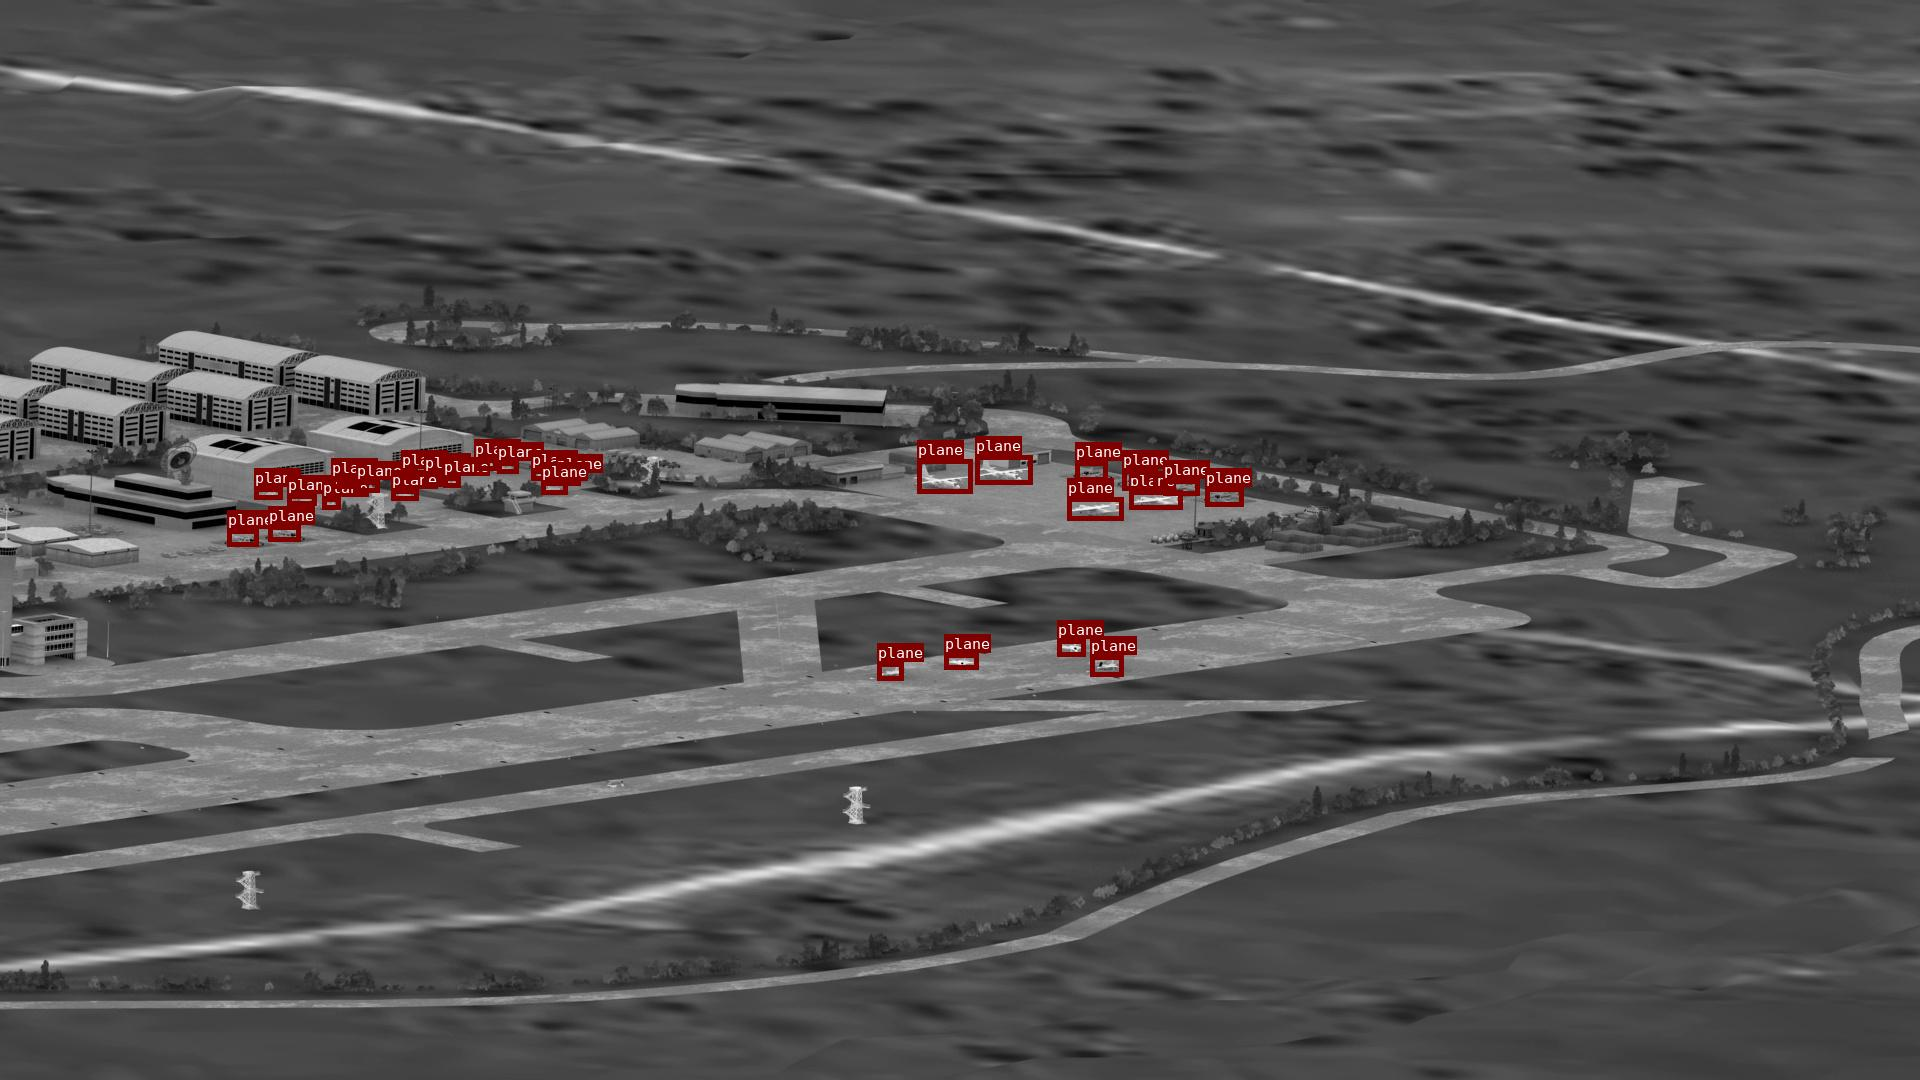plane: (916, 459, 972, 493), (975, 455, 1033, 484), (1067, 497, 1124, 520), (1129, 491, 1182, 509), (1205, 487, 1244, 506), (1122, 469, 1156, 491), (1091, 655, 1124, 676), (1075, 462, 1106, 481), (1163, 479, 1199, 495), (944, 653, 978, 669), (227, 529, 258, 546), (268, 525, 301, 541), (877, 662, 903, 680), (1058, 640, 1085, 655), (541, 481, 567, 495), (255, 487, 282, 498), (287, 495, 316, 505), (473, 458, 497, 469), (556, 473, 580, 485), (392, 489, 418, 500), (356, 480, 378, 492), (331, 477, 355, 488), (497, 462, 518, 473), (425, 472, 442, 487), (531, 469, 554, 480), (322, 497, 340, 509), (443, 476, 460, 487), (401, 469, 417, 479)
